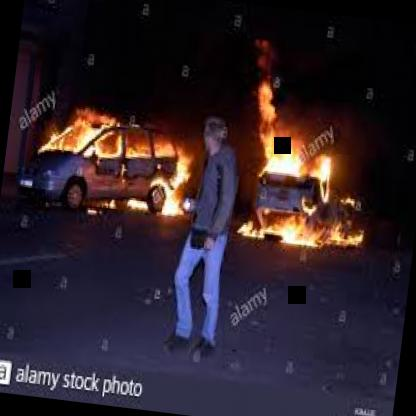fire: (242, 92, 370, 261), (36, 99, 184, 226)
